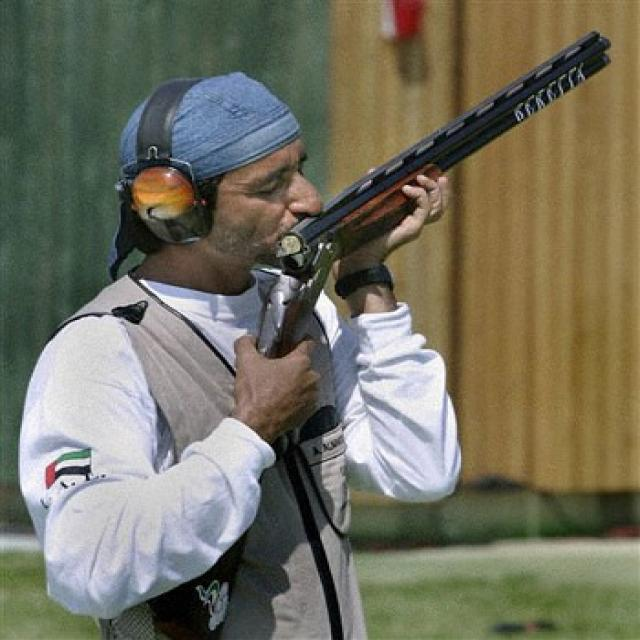nomask: (198, 127, 314, 278)
